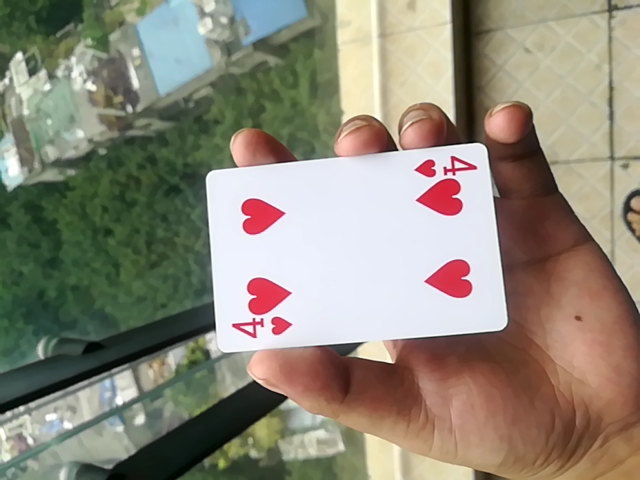hx 4: (201, 136, 512, 359)
